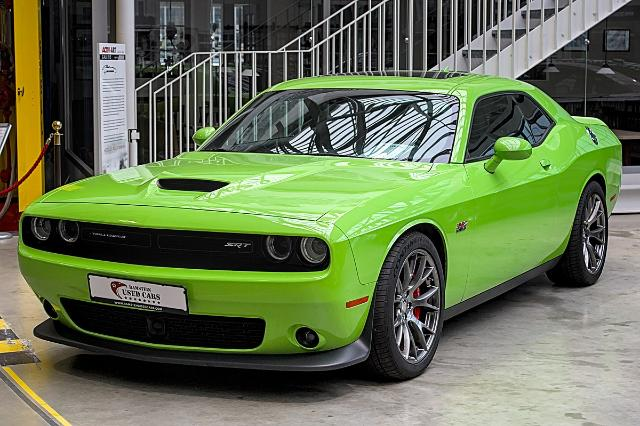dodge: (17, 69, 623, 383)
